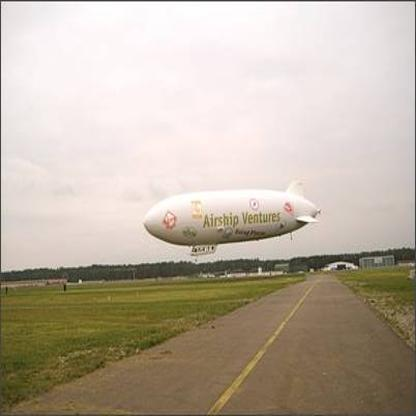Airship: (141, 179, 326, 257)
